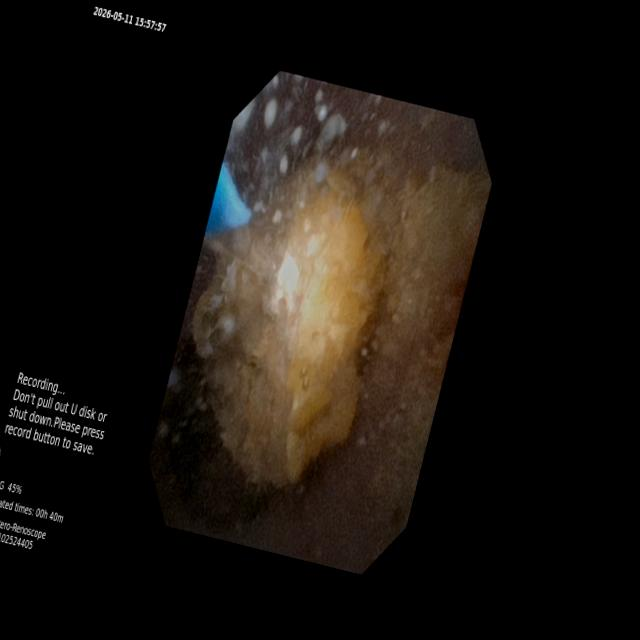laser-fibre: (216, 222, 272, 280)
laser_dot: (277, 253, 298, 300)
stone-new: (192, 164, 381, 485), (386, 171, 490, 325)
